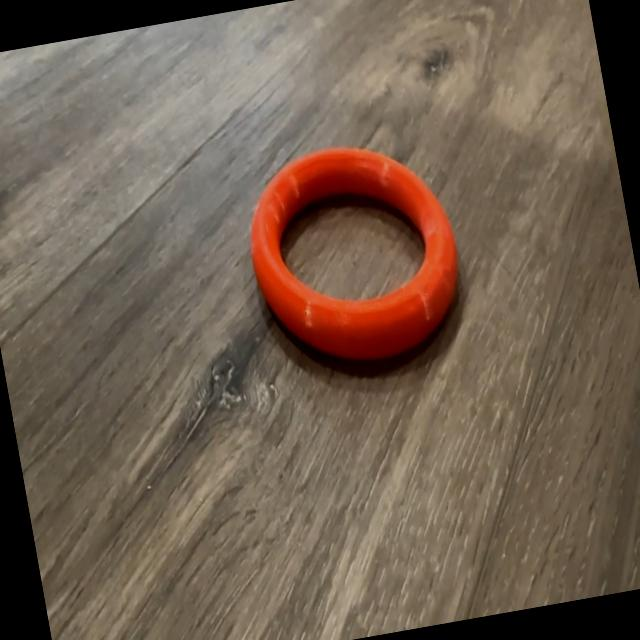note: (233, 126, 474, 384)
